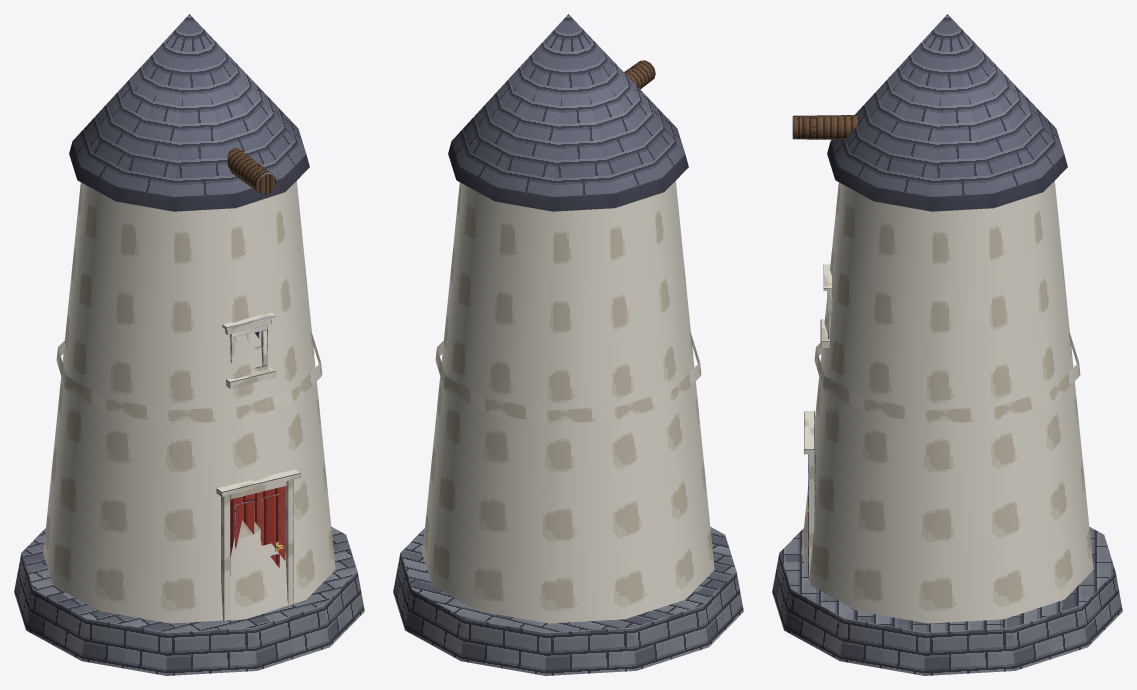
File: windmill_tower_1.glb
3 views of the same model, side by side, from view 1: azimuth 30°, elevation 25°; view 2: azimuth 150°, elevation 25°; view 3: azimuth 270°, elevation 25° (orthographic).
Visible parts, largest first — view 1: windmill_tower_2; view 2: windmill_tower_2; view 3: windmill_tower_2.
Boxes of the visible parts, left/top/right/bottom form: windmill_tower_2: left=14, top=14, right=364, bottom=675; windmill_tower_2: left=393, top=14, right=743, bottom=675; windmill_tower_2: left=772, top=14, right=1122, bottom=675.
Bounding box in the file's own units: 4.76 × 8.8 × 4.76.
9 materials, 9 textured.
